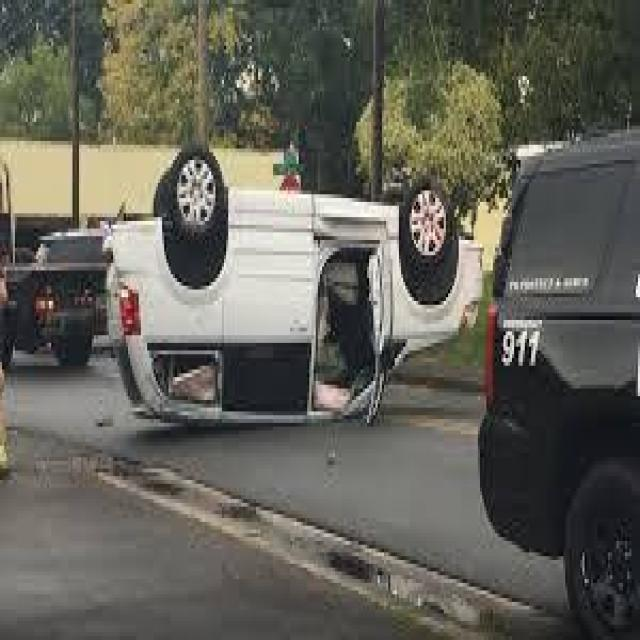severe: (103, 135, 486, 436)
